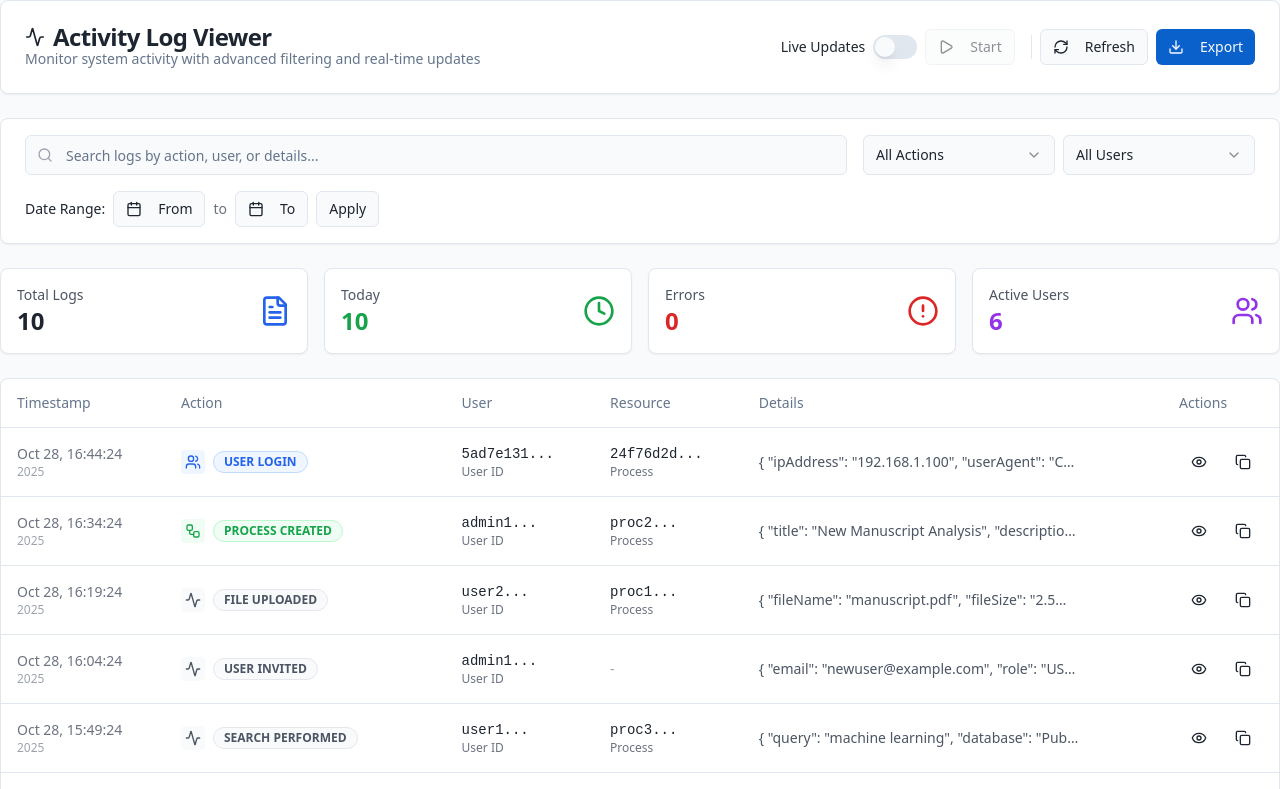
Test case: ActivityLogViewer › should open export modal when export button is clicked
Step 1. Click the button "Export" → [1205, 47], box [1156,29,1255,65]
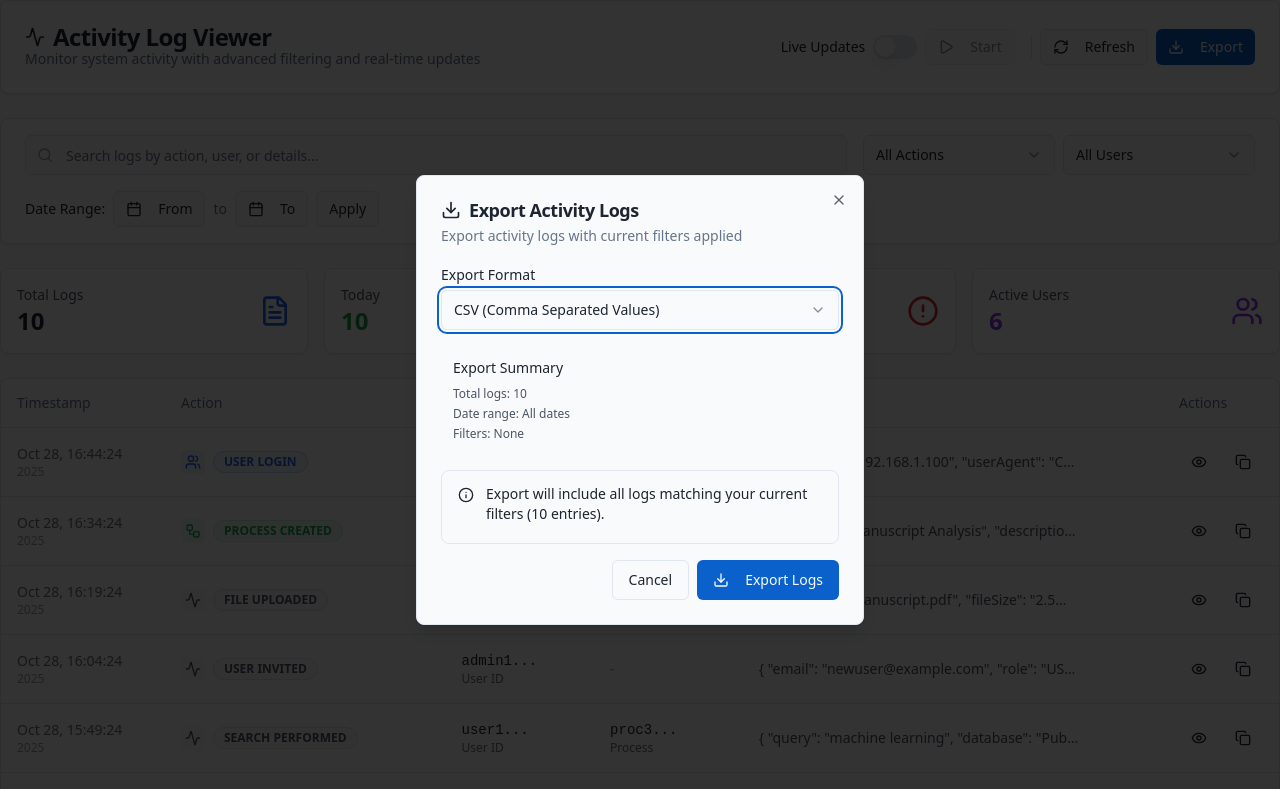
expect the heading "Export Activity Logs" is shown: met, box [441,198,639,222]
expect the text "Export Format" is shown: met, box [441,265,535,284]
expect the heading "Export Summary" is shown: met, box [453,358,563,377]
